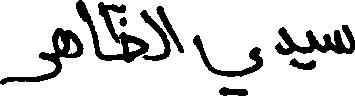X: (195, 30, 262, 95), (0, 23, 60, 89), (101, 0, 146, 67), (148, 1, 167, 65), (62, 0, 80, 62), (326, 20, 354, 58), (275, 22, 294, 71), (84, 0, 98, 62), (169, 17, 182, 59), (308, 25, 316, 74)
